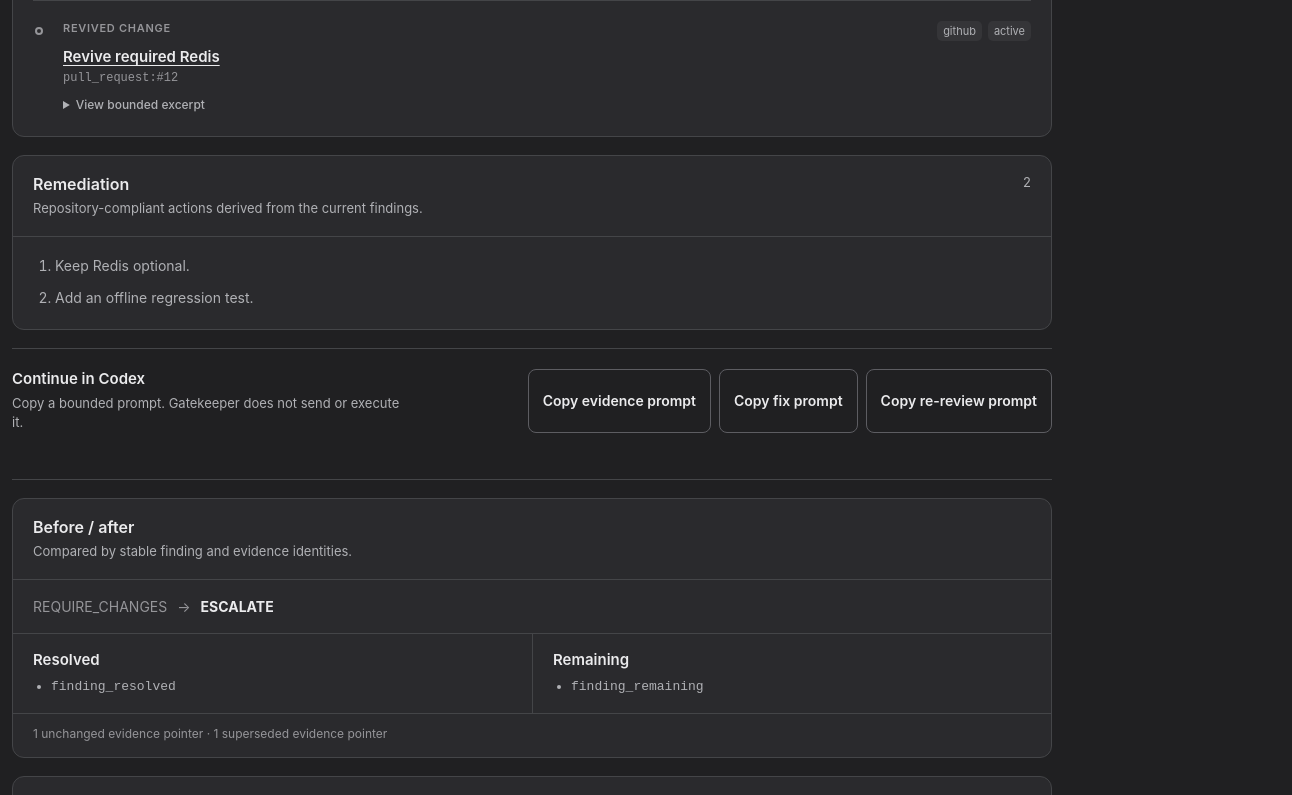
Scenario: Review Inspector › copies exact safety prompts for Codex
The image size is (1292, 795).
(page scrolled)
Click the button "Copy evidence prompt".
click(619, 401)  # box [528,369,711,433]
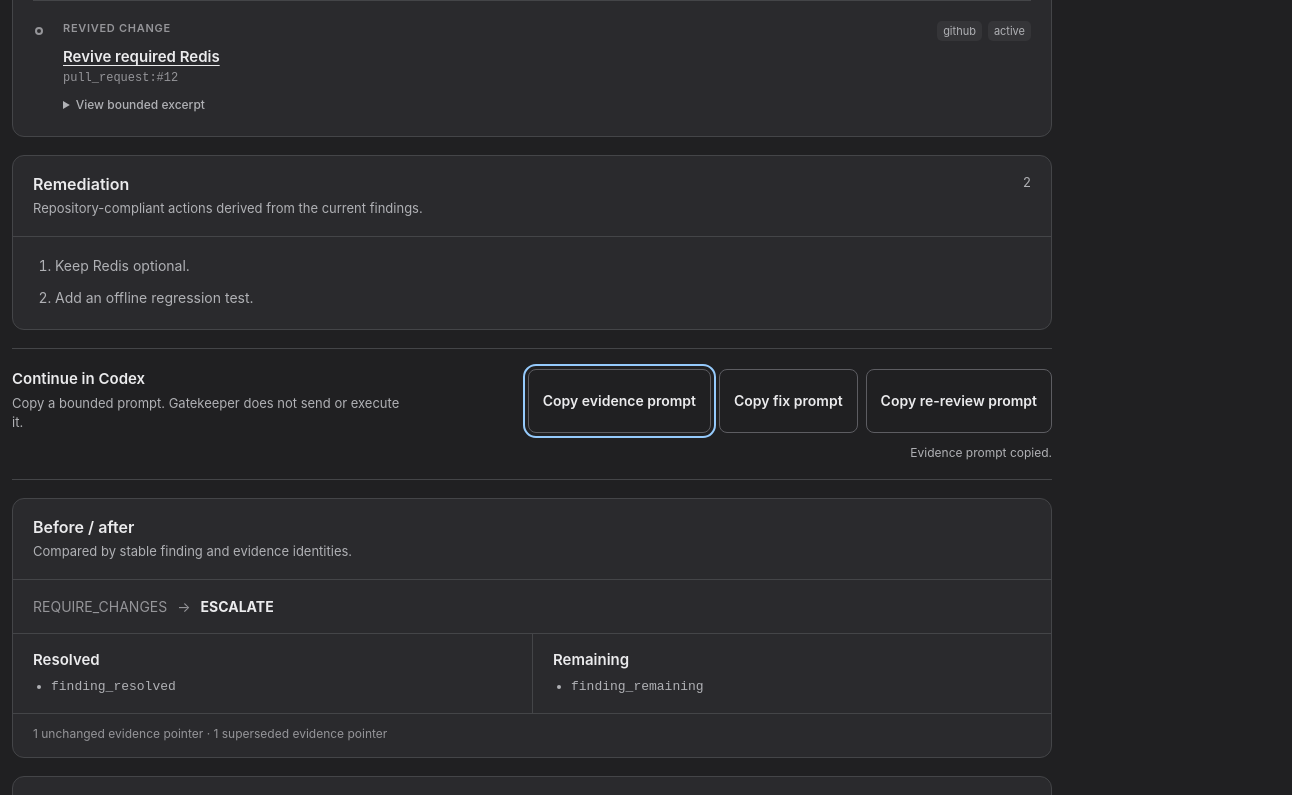
Expected: the text "Evidence prompt copied." is shown, [910,445,1052,460]
Click the button "Copy fix prompt".
click(788, 401)  # box [719,369,858,433]
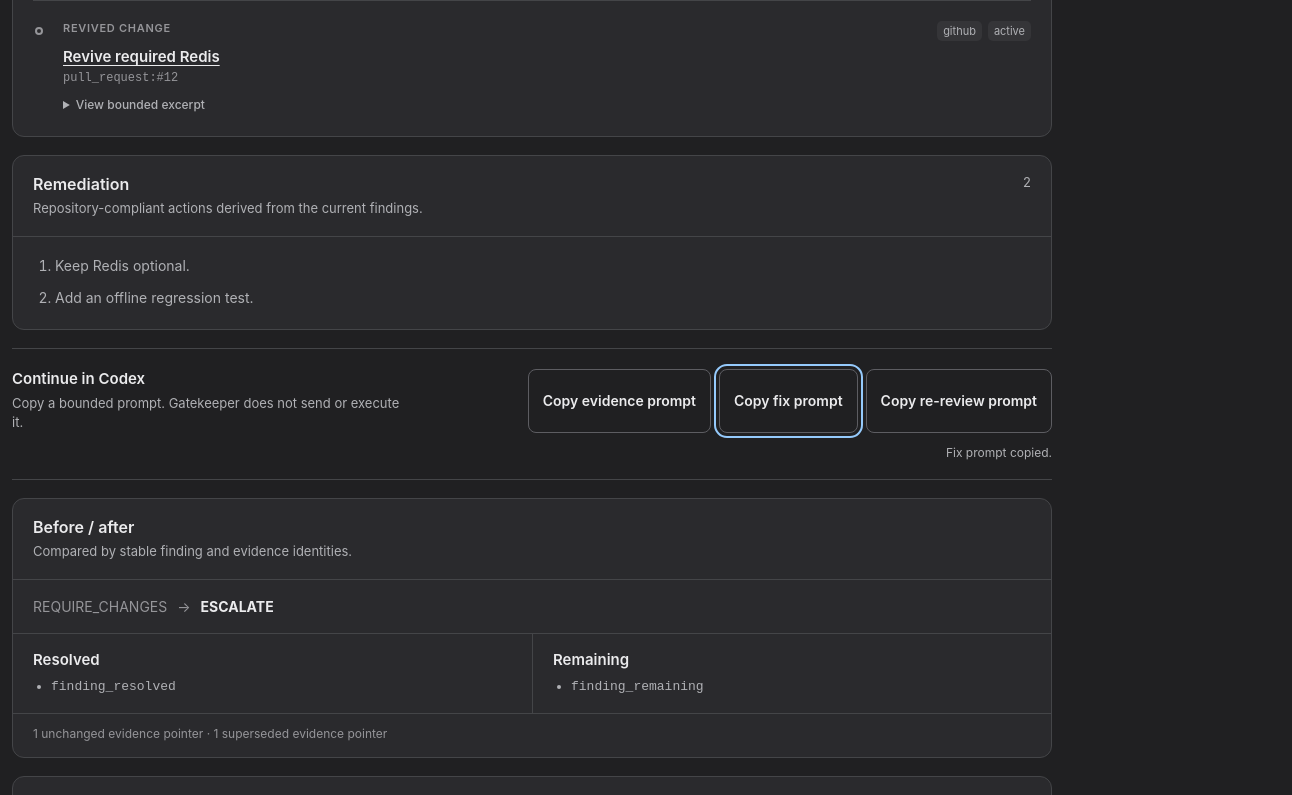
Expected: the text "Fix prompt copied." is shown, [946,445,1052,460]
Click the button "Copy re-review prompt".
click(959, 401)  # box [866,369,1052,433]
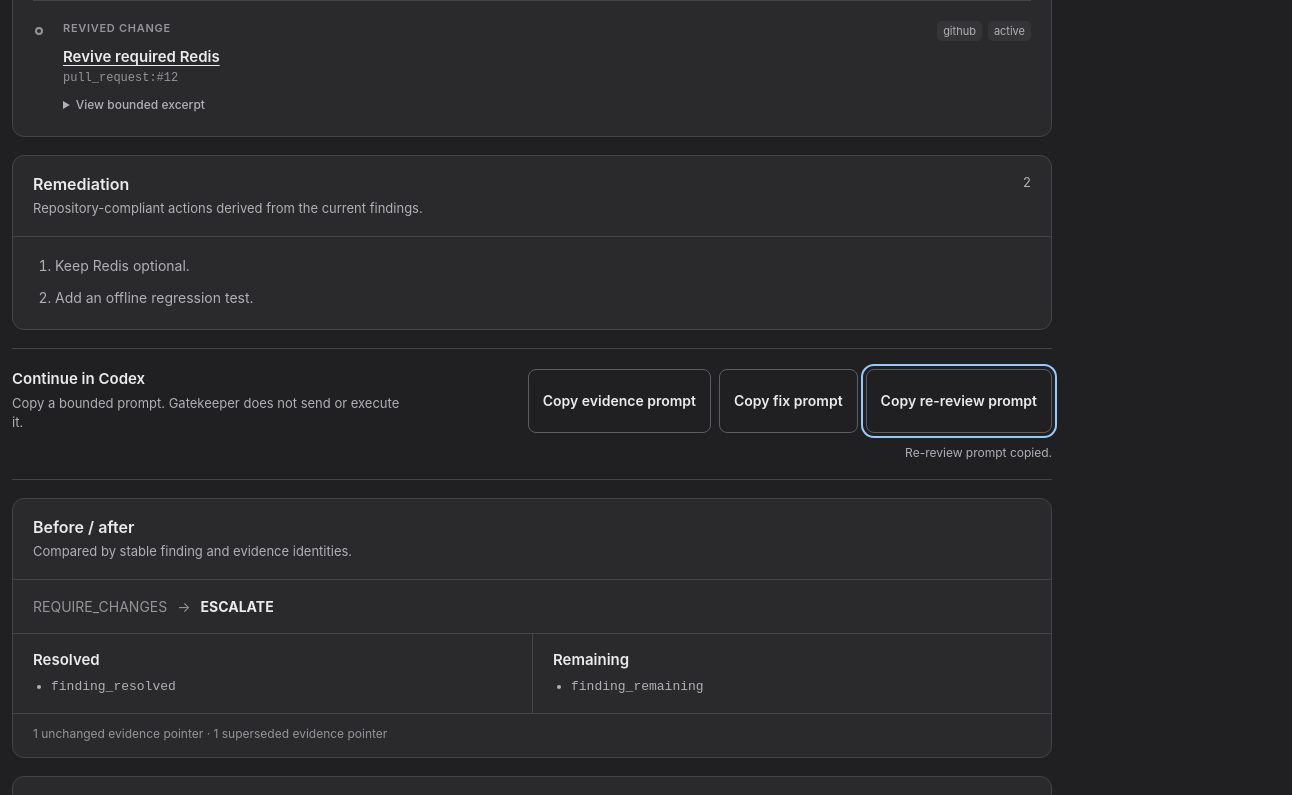
Expected: the text "Re-review prompt copied." is shown, [905,445,1052,460]
